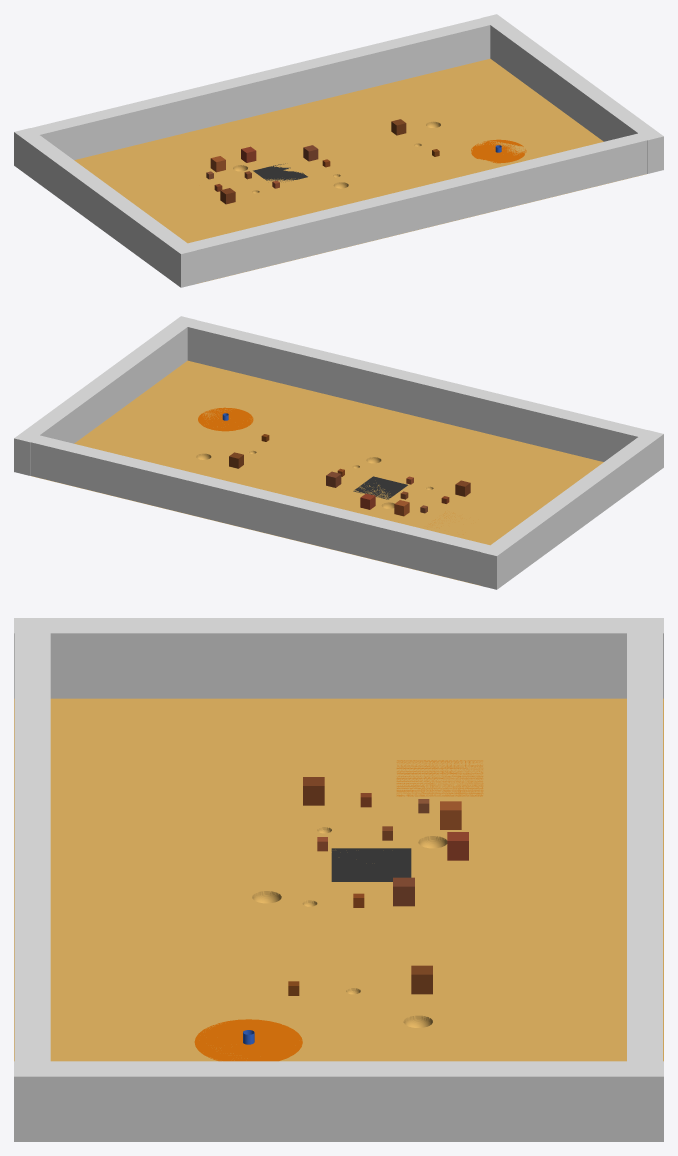
The model's file is map.dae.
3 renders of one model, top to bottom at view 1: azimuth 30°, elevation 25°; view 2: azimuth 150°, elevation 25°; view 3: azimuth 270°, elevation 25°, orthographic. The views are drawn at different scales.
Parts seen in each view (by area): view 1: Plane, Cube.016, Cube.015, Cube.013, Cube.014, Circle, Plane.001; view 2: Plane, Cube.015, Cube.016, Cube.013, Cube.014, Circle, Plane.001; view 3: Plane, Cube.014, Cube.013, Cube.016, Cube.015, Circle, Plane.001, Plane.002.
Boxes of the visible parts, <box> form: Plane: <box>74,58,646,283</box>; Cube.016: <box>172,131,662,283</box>; Cube.015: <box>14,14,505,159</box>; Cube.013: <box>14,128,196,287</box>; Cube.014: <box>481,14,663,173</box>; Circle: <box>471,139,526,163</box>; Plane.001: <box>253,163,307,181</box>; Plane: <box>31,360,603,585</box>; Cube.015: <box>15,431,505,585</box>; Cube.016: <box>172,316,663,461</box>; Cube.013: <box>481,430,663,589</box>; Cube.014: <box>14,316,196,475</box>; Circle: <box>198,407,253,431</box>; Plane.001: <box>353,476,407,499</box>; Plane: <box>14,698,663,1061</box>; Cube.014: <box>14,1061,663,1141</box>; Cube.013: <box>14,618,663,698</box>; Cube.016: <box>14,618,50,1075</box>; Cube.015: <box>627,618,662,1075</box>; Circle: <box>194,1019,302,1061</box>; Plane.001: <box>331,848,411,881</box>; Plane.002: <box>396,760,483,796</box>.
Size of the model in its own units: 15.02 by 9 by 1.2.
